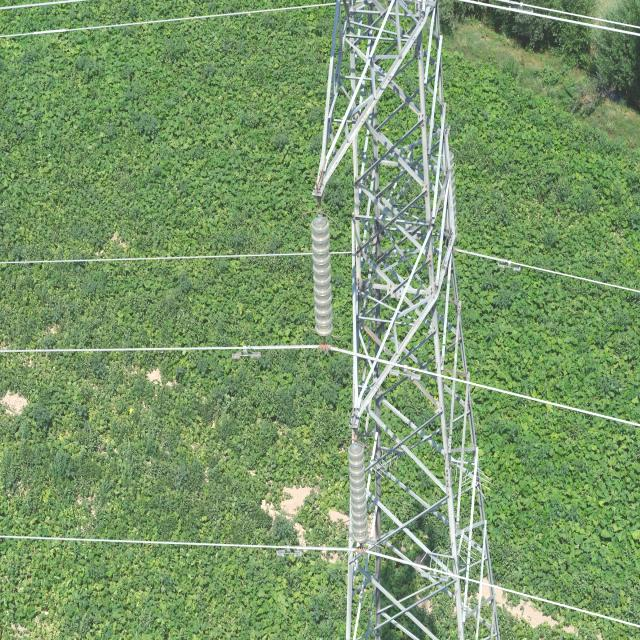voltage_line: (311, 7, 507, 640)
